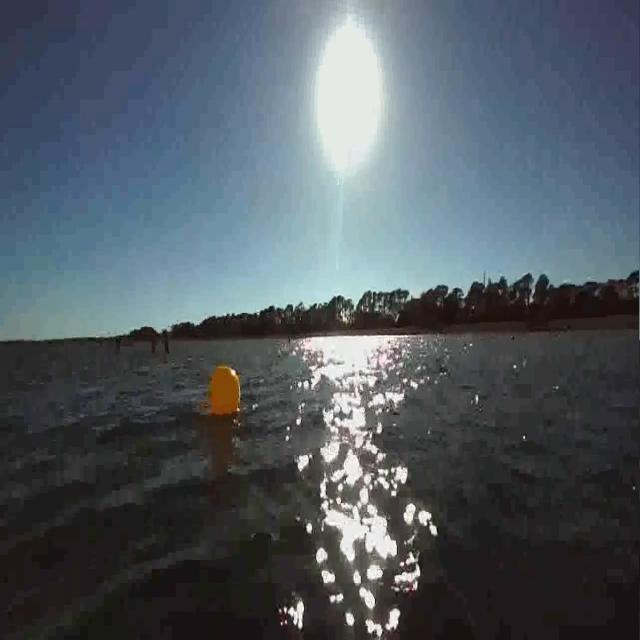yellow-buoy: (207, 362, 241, 420)
